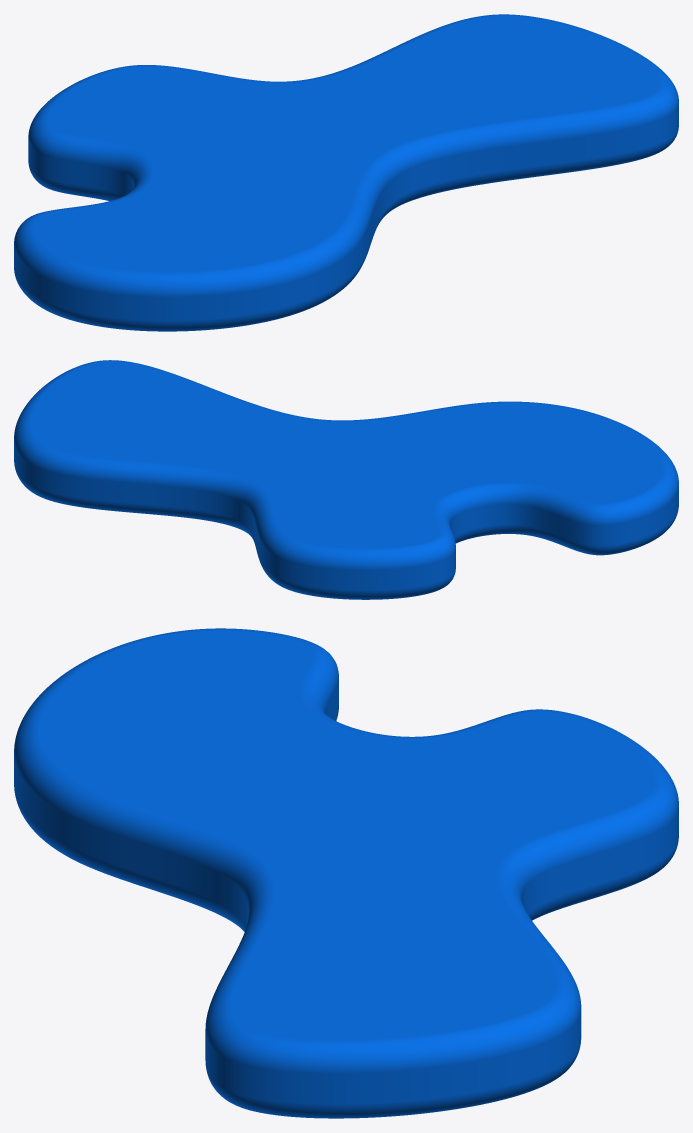
File: WATER 3.fbx
3 views of the same model, one above another, from view 1: azimuth 30°, elevation 25°; view 2: azimuth 150°, elevation 25°; view 3: azimuth 270°, elevation 25° (orthographic). The views are drawn at different scales.
Parts seen in each view (by area): view 1: nÆ°á»c 3; view 2: nÆ°á»c 3; view 3: nÆ°á»c 3.
Part boxes in pixels (bbox=[...]): nÆ°á»c 3: bbox=[14, 14, 678, 331]; nÆ°á»c 3: bbox=[14, 360, 678, 599]; nÆ°á»c 3: bbox=[14, 628, 678, 1118].
Bounding box in the file's own units: 121 × 10 × 79.27.
